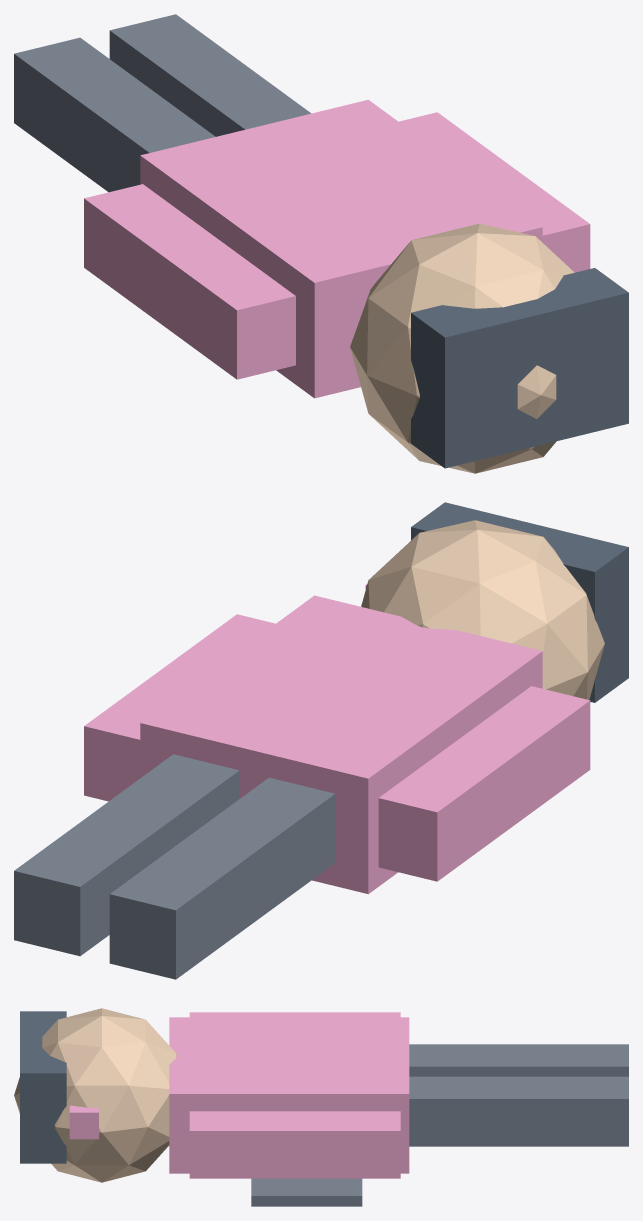
Rendered from hr_variant_1.glb.
The picture shows the model from 3 angles, top to bottom: view 1: azimuth 30°, elevation 25°; view 2: azimuth 150°, elevation 25°; view 3: azimuth 270°, elevation 25°; orthographic projection. The views are drawn at different scales.
Visible parts, largest first — view 1: torso_2, hair_6, arm_l_3, head_5, leg_l_0, leg_r_1, arm_r_4; view 2: torso_2, leg_l_0, arm_l_3, head_5, leg_r_1, arm_r_4, hair_6; view 3: torso_2, head_5, leg_r_1, arm_r_4, leg_l_0, hair_6, tablet_7, arm_l_3, earring_or_badge_8.
Part boxes in pixels (x1,y1,x2,y2): torso_2: [140, 99, 542, 398]; hair_6: [411, 268, 628, 468]; arm_l_3: [84, 184, 295, 379]; head_5: [350, 223, 574, 473]; leg_l_0: [14, 37, 215, 192]; leg_r_1: [109, 14, 311, 136]; arm_r_4: [399, 112, 590, 272]; torso_2: [140, 595, 542, 894]; leg_l_0: [109, 777, 335, 979]; arm_l_3: [378, 686, 590, 881]; head_5: [361, 520, 604, 699]; leg_r_1: [14, 754, 239, 956]; arm_r_4: [84, 614, 275, 801]; hair_6: [411, 502, 628, 702]; torso_2: [169, 1017, 409, 1173]; head_5: [14, 1008, 176, 1182]; leg_r_1: [409, 1076, 628, 1146]; arm_r_4: [189, 1111, 400, 1178]; leg_l_0: [409, 1044, 628, 1076]; hair_6: [20, 1011, 66, 1163]; tablet_7: [251, 1178, 362, 1206]; arm_l_3: [189, 1012, 400, 1017]; earring_or_badge_8: [69, 1105, 98, 1139].
Size of the model in its own units: 0.96 by 0.6 by 2.1.
